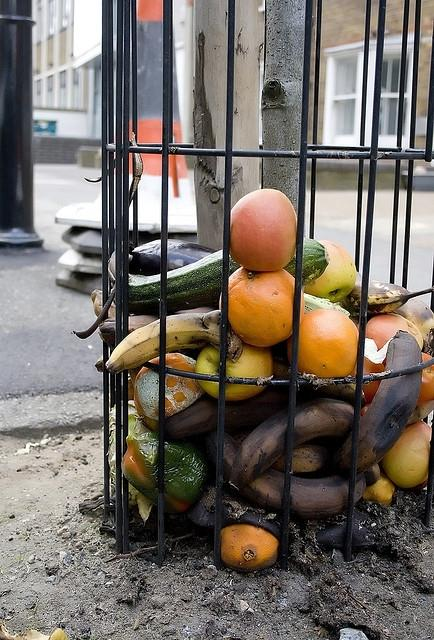apple: (194, 342, 274, 402), (379, 420, 431, 490), (304, 240, 357, 304), (366, 313, 424, 368), (416, 352, 434, 406)
banana: (291, 330, 423, 480), (204, 427, 366, 520), (165, 374, 366, 444), (229, 399, 355, 491), (106, 310, 243, 374), (228, 431, 330, 475), (338, 271, 432, 315), (388, 296, 433, 358)
vegetable marrow: (128, 237, 330, 315), (128, 238, 218, 276)
